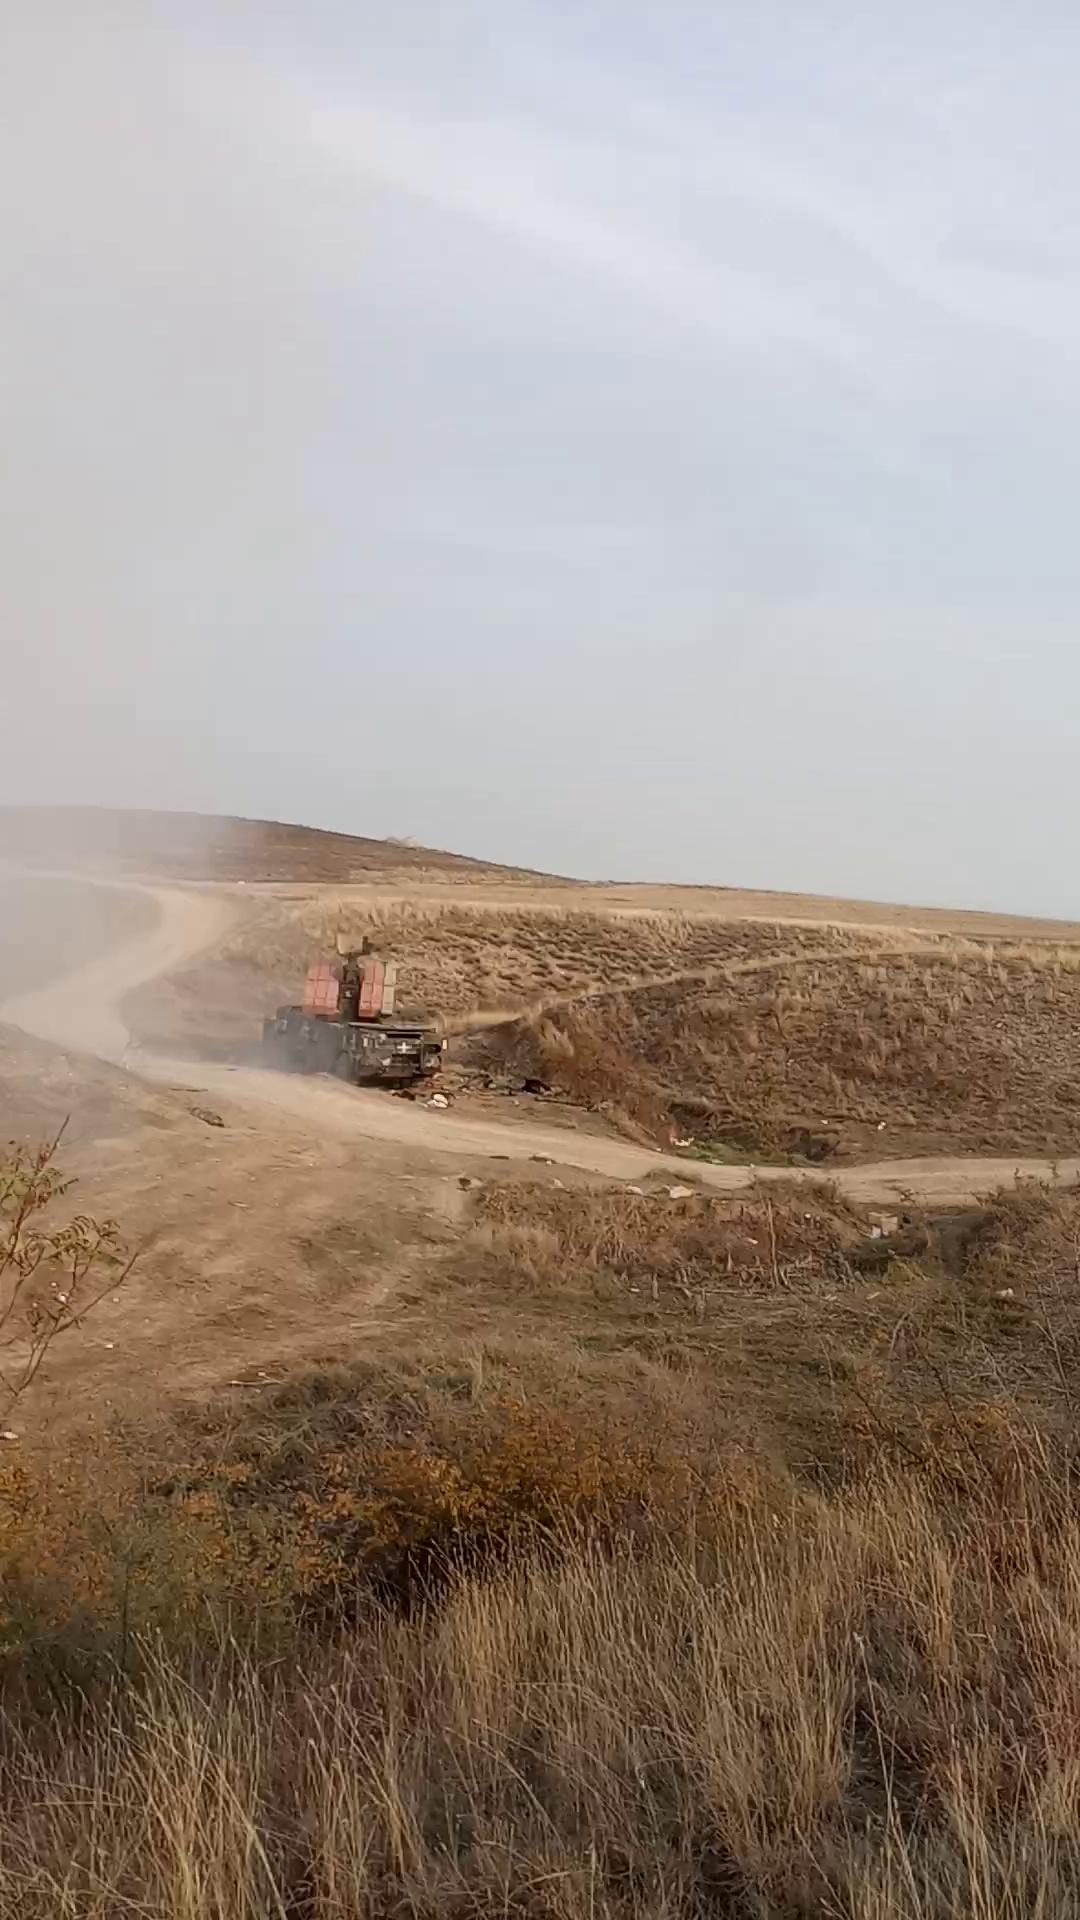MIL_SAM_TEL: (261, 928, 455, 1092)
